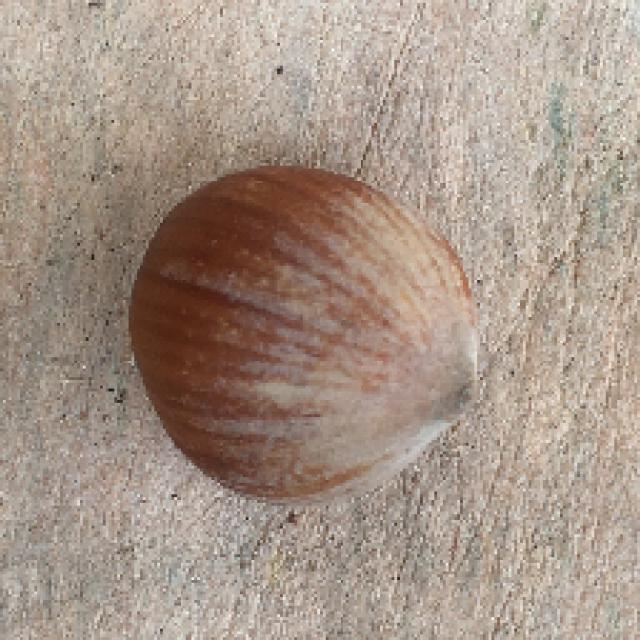qualityHazelnut: (132, 152, 488, 512)
